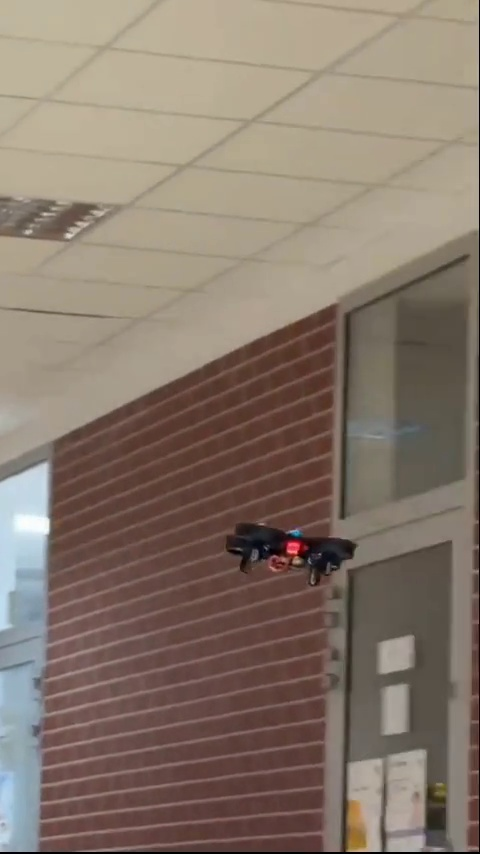drone: (224, 515, 348, 578)
